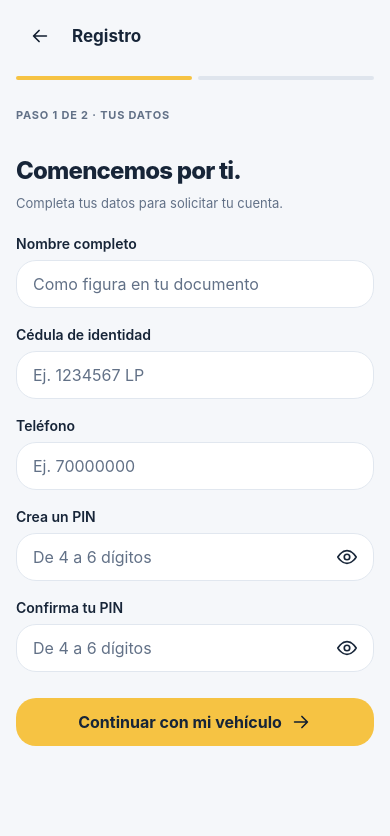
el paso 2 valida el vehículo al enviar y no envia
This screenshot has width=390, height=836.
Type "Ana Pérez" into the field named "Nombre completo" at (195, 284), box [16,260,374,308]
Type "1234567" into the field named "Cédula de identidad" at (195, 375), box [16,351,374,399]
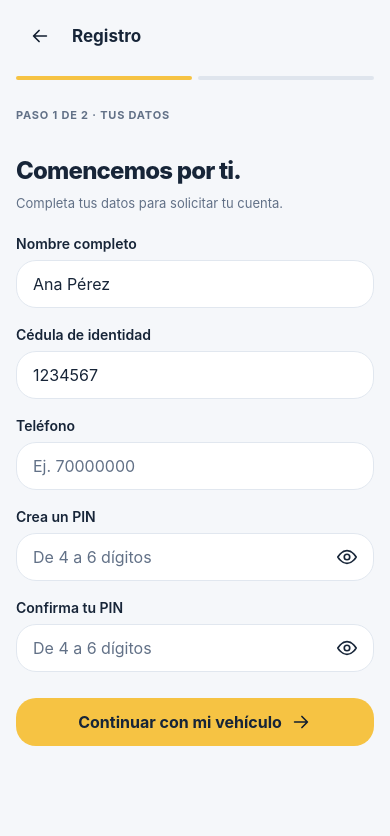
Type "70000000" into the field named "Teléfono" at (195, 466), box [16,442,374,490]
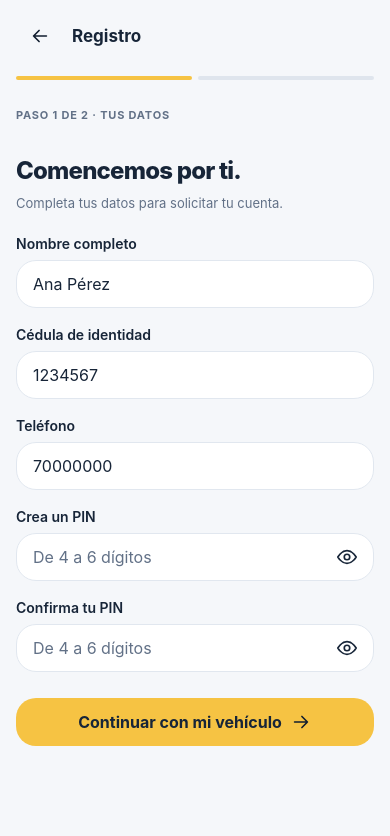
Type "0012" into the password field named "Crea un PIN" at (195, 557), box [16,533,374,581]
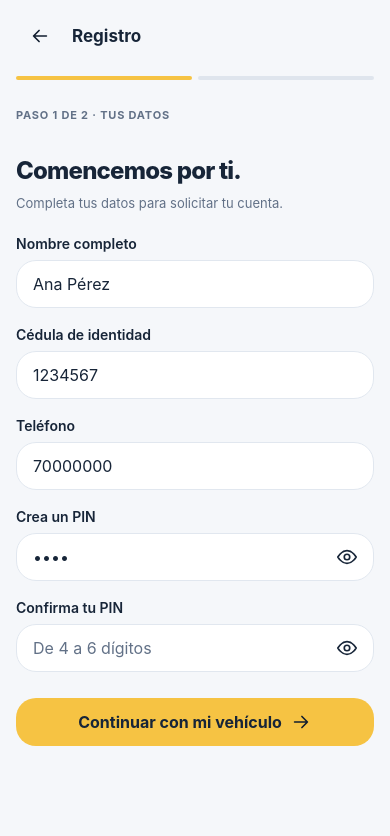
Type "0012" into the password field named "Confirma tu PIN" at (195, 648), box [16,624,374,672]
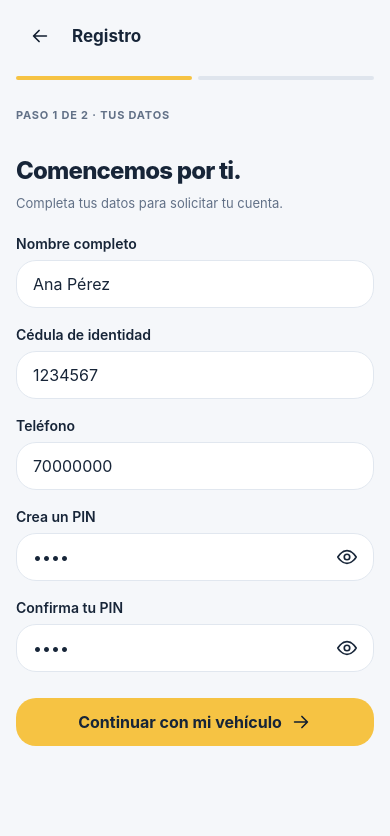
Click the button "Continuar con mi vehículo" at (195, 722), box [16,698,374,746]
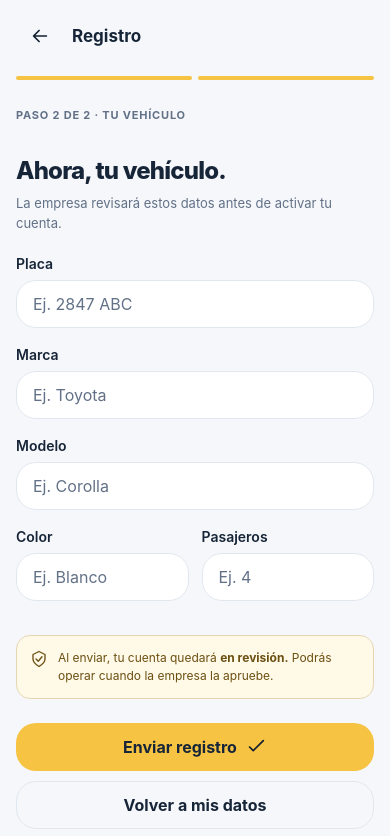
Click the button "Enviar registro" at (195, 747), box [16,723,374,771]
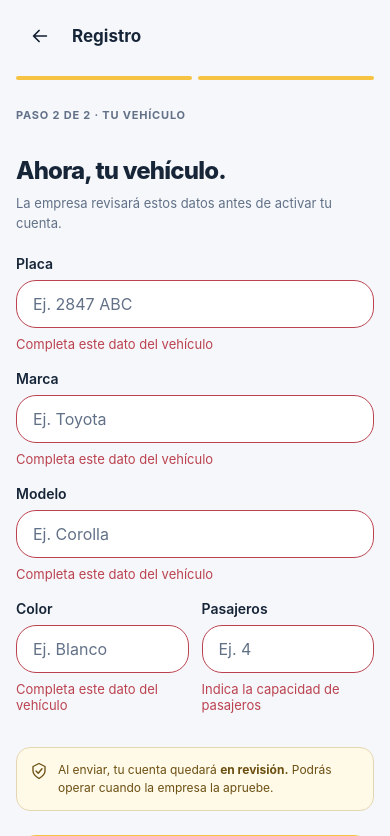
Check: the text "Indica la capacidad de pasajeros" is shown, box [202,681,343,713]
Check: the text "Completa este dato del vehículo" is shown 4 times, box [16,336,213,352]; [16,451,213,467]; [16,566,213,582]; [16,681,162,713]
